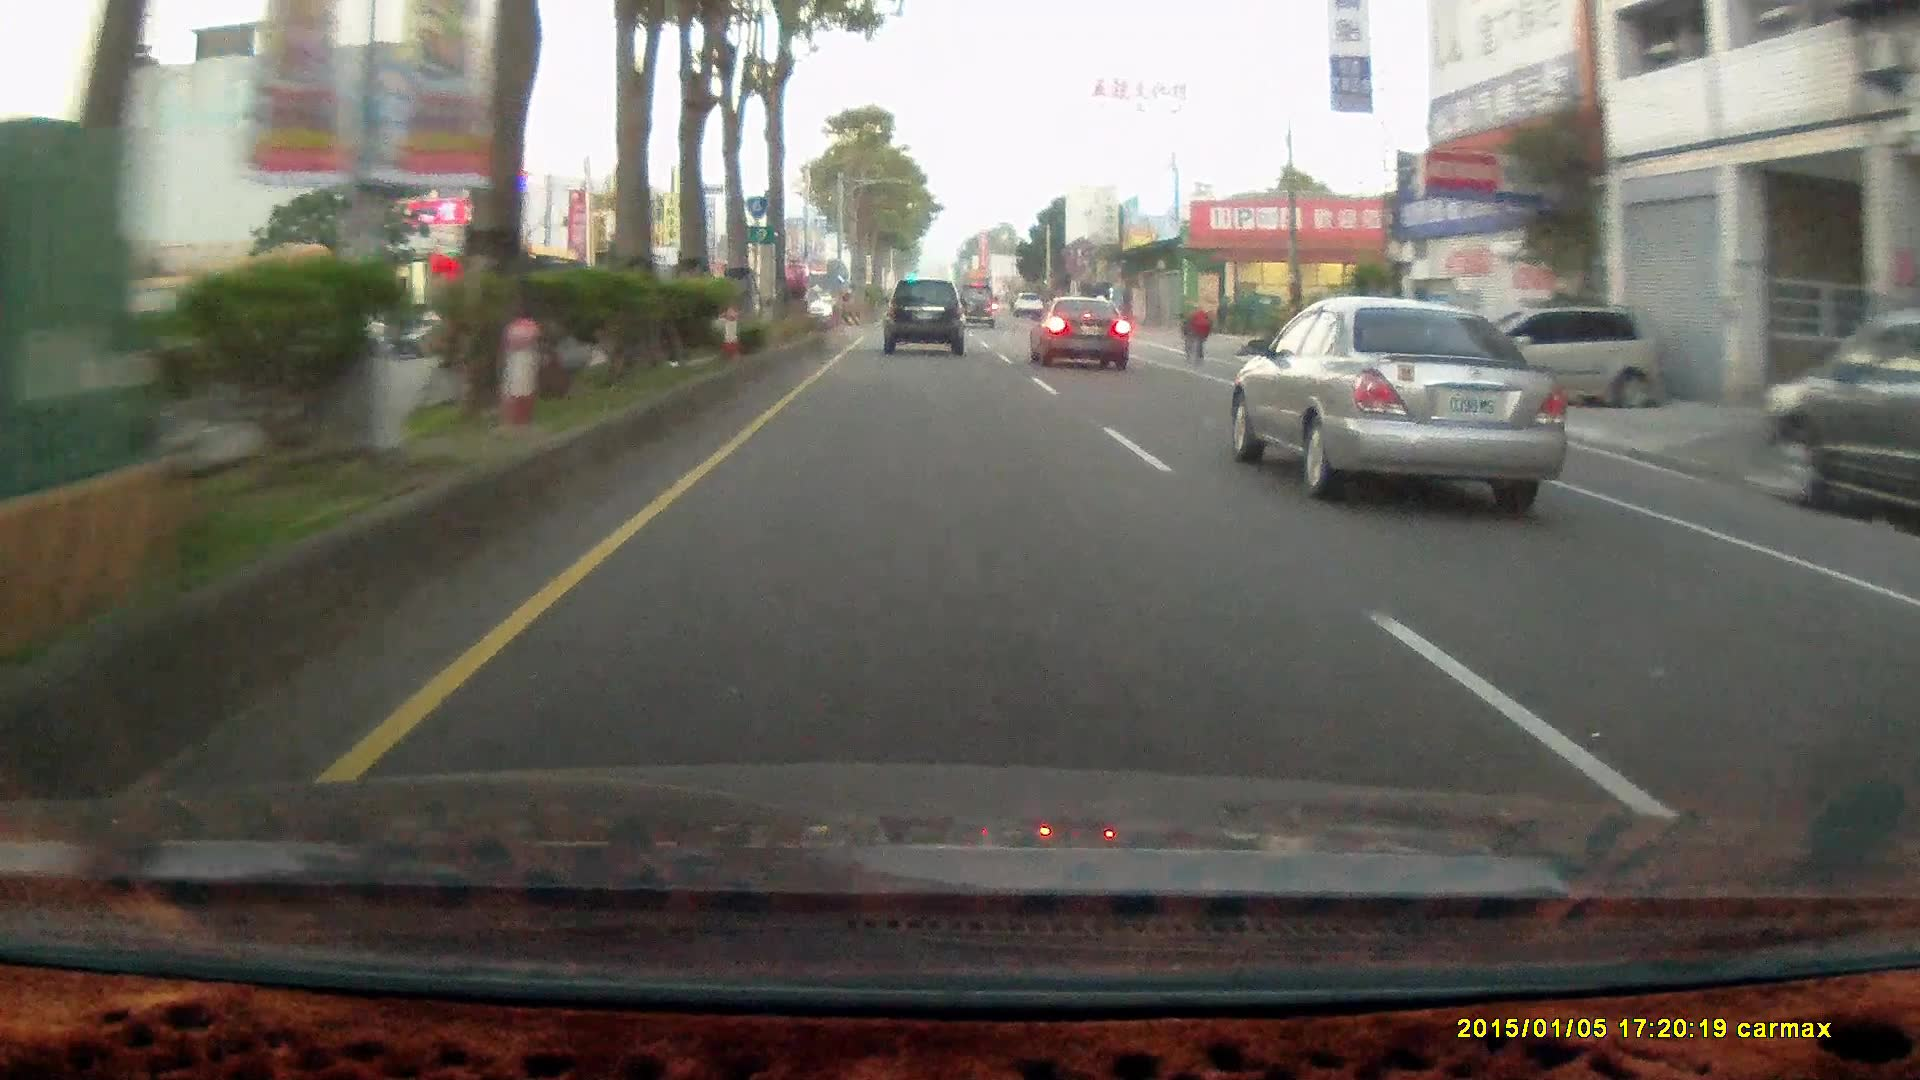pedestrian: (1188, 299, 1212, 359), (1190, 302, 1212, 360)
vehicle: (1238, 298, 1570, 502), (1749, 298, 1919, 535), (1750, 299, 1920, 536), (1459, 301, 1662, 408), (1473, 302, 1665, 409), (1028, 295, 1134, 371), (1028, 292, 1129, 369), (882, 283, 971, 359), (882, 278, 963, 353), (958, 280, 997, 326)
